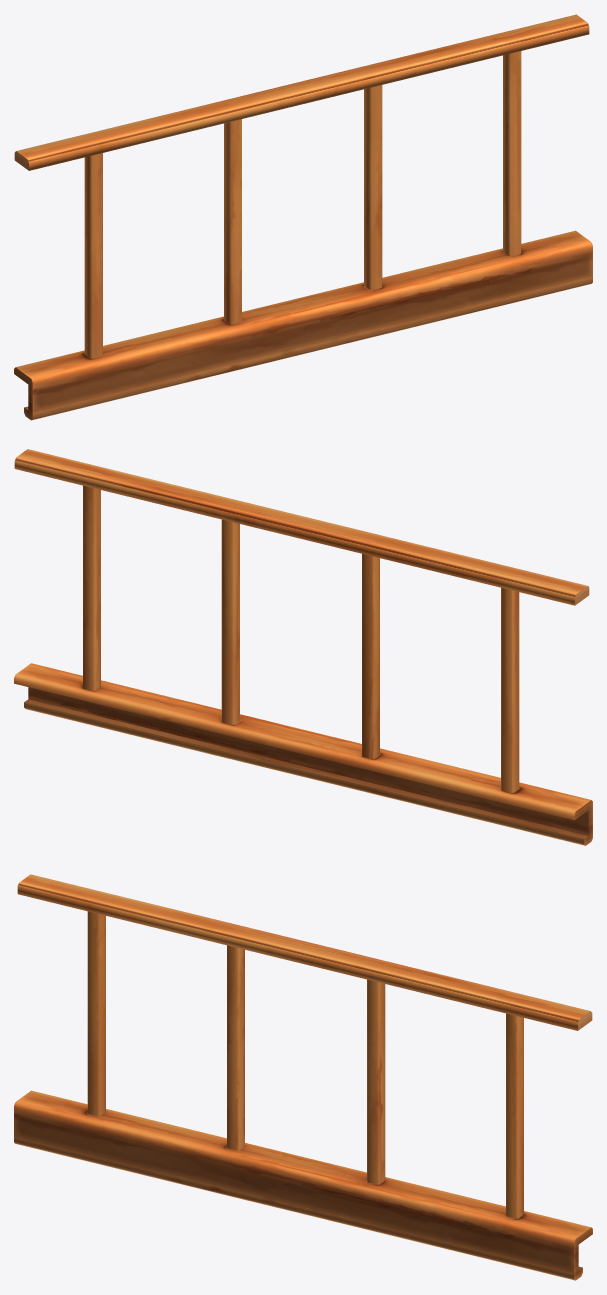
The model's file is PropStairs01PTypeA1.FBX.
3 views of the same model, one above another, from view 1: azimuth 30°, elevation 25°; view 2: azimuth 150°, elevation 25°; view 3: azimuth 330°, elevation 25° (orthographic).
Visible parts, largest first — view 1: PropStairs01PTypeA1; view 2: PropStairs01PTypeA1; view 3: PropStairs01PTypeA1.
Part boxes in pixels (x1,y1,x2,y2): PropStairs01PTypeA1: [14, 14, 592, 420]; PropStairs01PTypeA1: [14, 449, 592, 845]; PropStairs01PTypeA1: [14, 874, 592, 1280].
Size of what is drawn, in the model's own units: 2.25 by 0.9916 by 0.1308.
